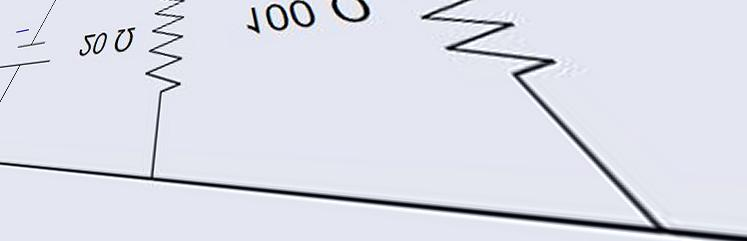resistor: (398, 3, 585, 77), (141, 3, 193, 90)
